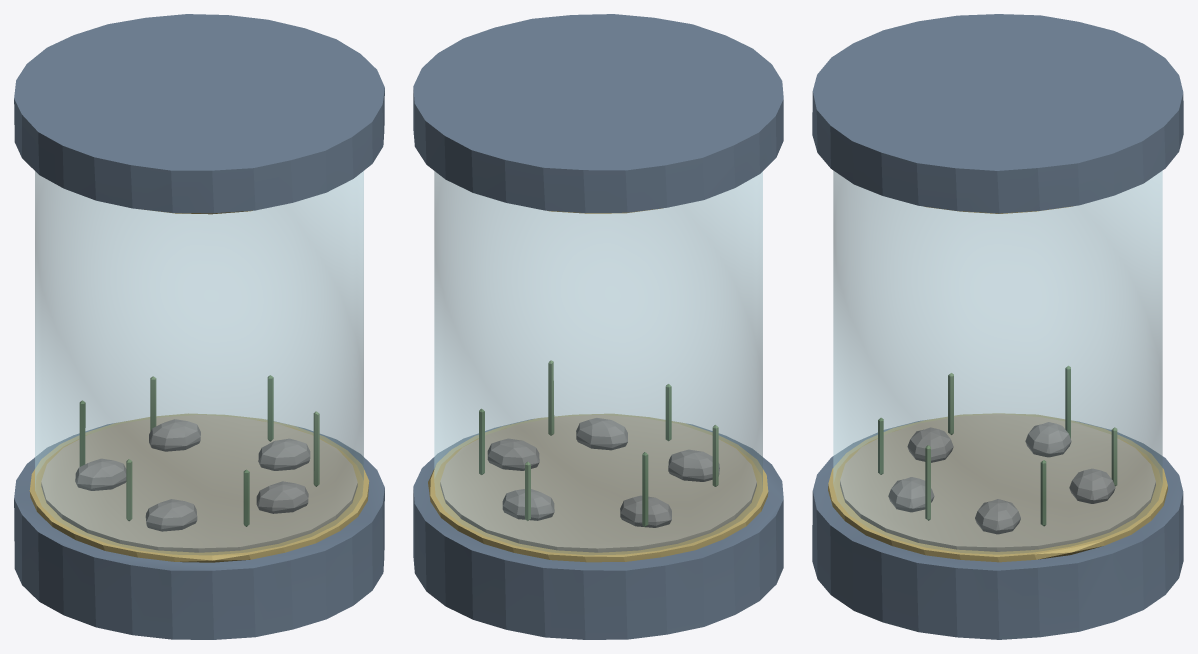
Rendered from furn_aquarium_pillar__navy_low.glb.
The picture shows the model from 3 angles, left to right: view 1: azimuth 30°, elevation 25°; view 2: azimuth 150°, elevation 25°; view 3: azimuth 270°, elevation 25°; orthographic projection.
Size of the model in its own units: 1.9 by 2.65 by 1.9.
